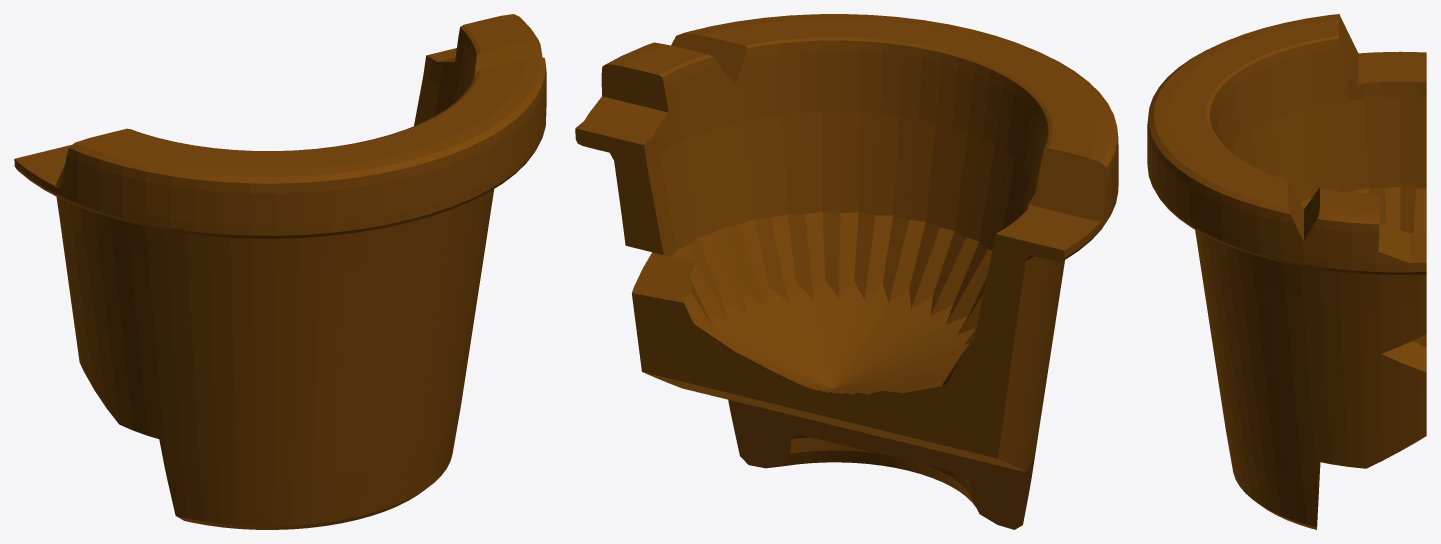
The model's file is uekibahachi_Broke.fbx.
The picture shows the model from 3 angles, left to right: view 1: azimuth 30°, elevation 25°; view 2: azimuth 150°, elevation 25°; view 3: azimuth 270°, elevation 25°; orthographic projection. The views are drawn at different scales.
Visible parts, largest first — view 1: 円柱; view 2: 円柱; view 3: 円柱.
Part boxes in pixels (x1,y1,x2,y2): 円柱: [14, 14, 546, 529]; 円柱: [575, 14, 1118, 529]; 円柱: [1147, 14, 1426, 529].
Size of the model in its own units: 235 by 184 by 130.
